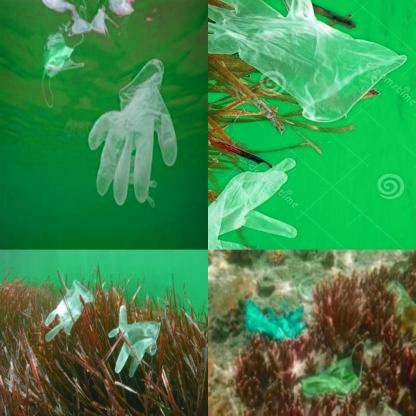Mask: (296, 343, 368, 397), (39, 40, 85, 108)
glove: (208, 0, 409, 124), (87, 60, 178, 216), (208, 158, 301, 249), (107, 302, 163, 377), (43, 278, 94, 342), (246, 298, 310, 348)
